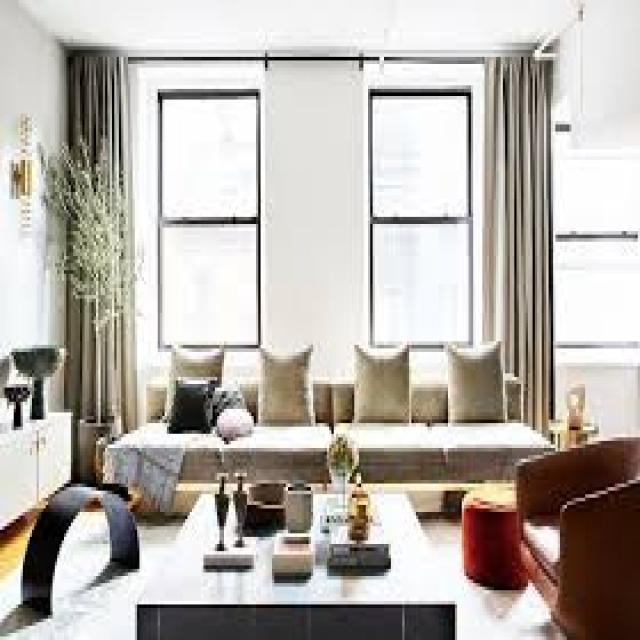Chair: (509, 416, 640, 640)
Sofa: (113, 319, 559, 513)
Table: (154, 469, 458, 640)
